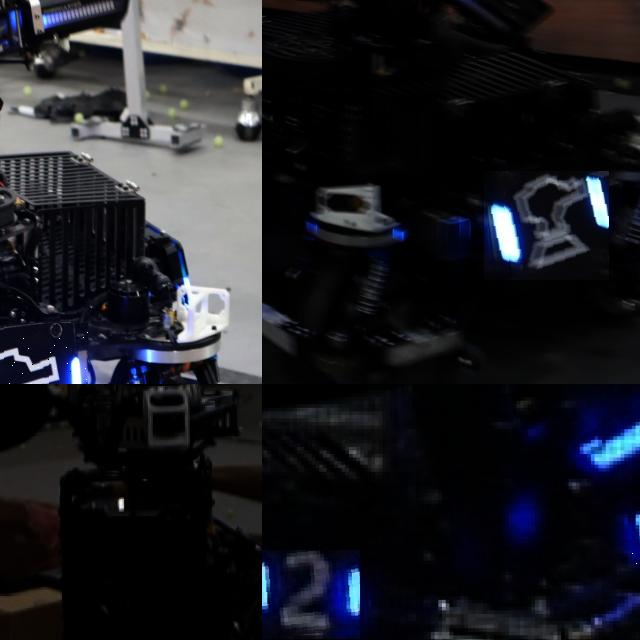B2: (262, 550, 360, 639)
Bs: (484, 171, 609, 280), (0, 323, 88, 384)
